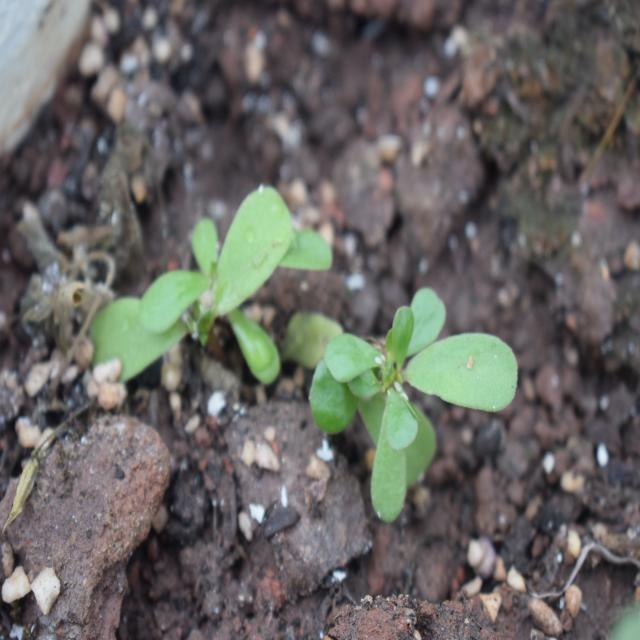purslane: (110, 177, 508, 545)
